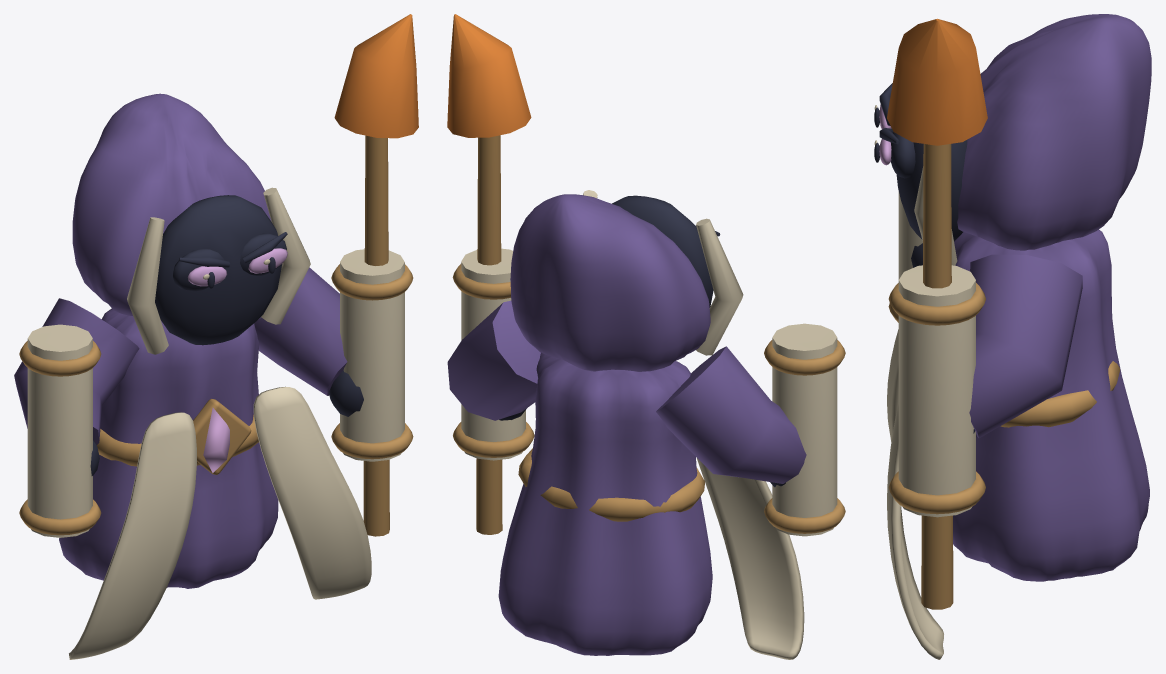
Rendered from miniboss_7.glb.
The picture shows the model from 3 angles, left to right: view 1: azimuth 30°, elevation 25°; view 2: azimuth 150°, elevation 25°; view 3: azimuth 270°, elevation 25°; orthographic projection. The views are drawn at different scales.
Visible parts, largest first — view 1: Email_Art_tete_0, Email_BestiaireSculpte, Email_Art_bras_d_0, Email_Art_bras_g_0, Email_Art_pan_g_0, Email_Art_pan_d_0, Email_Art_arme_0; view 2: Email_BestiaireSculpte, Email_Art_tete_0, Email_Art_bras_g_0, Email_Art_bras_d_0, Email_Art_arme_0, Email_Art_pan_g_0; view 3: Email_Art_tete_0, Email_BestiaireSculpte, Email_Art_bras_d_0, Email_Art_arme_0, Email_Art_pan_d_0, Email_Art_bras_g_0, Email_Art_pan_g_0.
Part boxes in pixels (bbox=[...]): Email_Art_tete_0: bbox=[72, 93, 310, 354]; Email_BestiaireSculpte: bbox=[59, 308, 278, 588]; Email_Art_bras_d_0: bbox=[254, 249, 413, 461]; Email_Art_bras_g_0: bbox=[14, 298, 139, 537]; Email_Art_pan_g_0: bbox=[69, 412, 196, 659]; Email_Art_pan_d_0: bbox=[253, 386, 371, 599]; Email_Art_arme_0: bbox=[334, 14, 418, 536]; Email_BestiaireSculpte: bbox=[498, 352, 712, 655]; Email_Art_tete_0: bbox=[510, 190, 743, 371]; Email_Art_bras_g_0: bbox=[656, 323, 845, 536]; Email_Art_bras_d_0: bbox=[447, 248, 540, 460]; Email_Art_arme_0: bbox=[447, 14, 531, 534]; Email_Art_pan_g_0: bbox=[697, 458, 804, 659]; Email_Art_tete_0: bbox=[874, 14, 1151, 265]; Email_BestiaireSculpte: bbox=[953, 229, 1149, 581]; Email_Art_bras_d_0: bbox=[888, 254, 1082, 517]; Email_Art_arme_0: bbox=[887, 18, 987, 609]; Email_Art_pan_d_0: bbox=[887, 404, 943, 659]; Email_Art_bras_g_0: bbox=[888, 191, 922, 322]; Email_Art_pan_g_0: bbox=[887, 329, 898, 441].
Bounding box in the file's own units: 0.8961 × 1.25 × 0.467.
